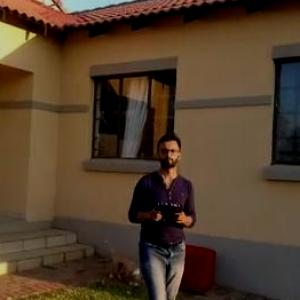follow: (121, 127, 200, 299)
null: (98, 234, 142, 288)
